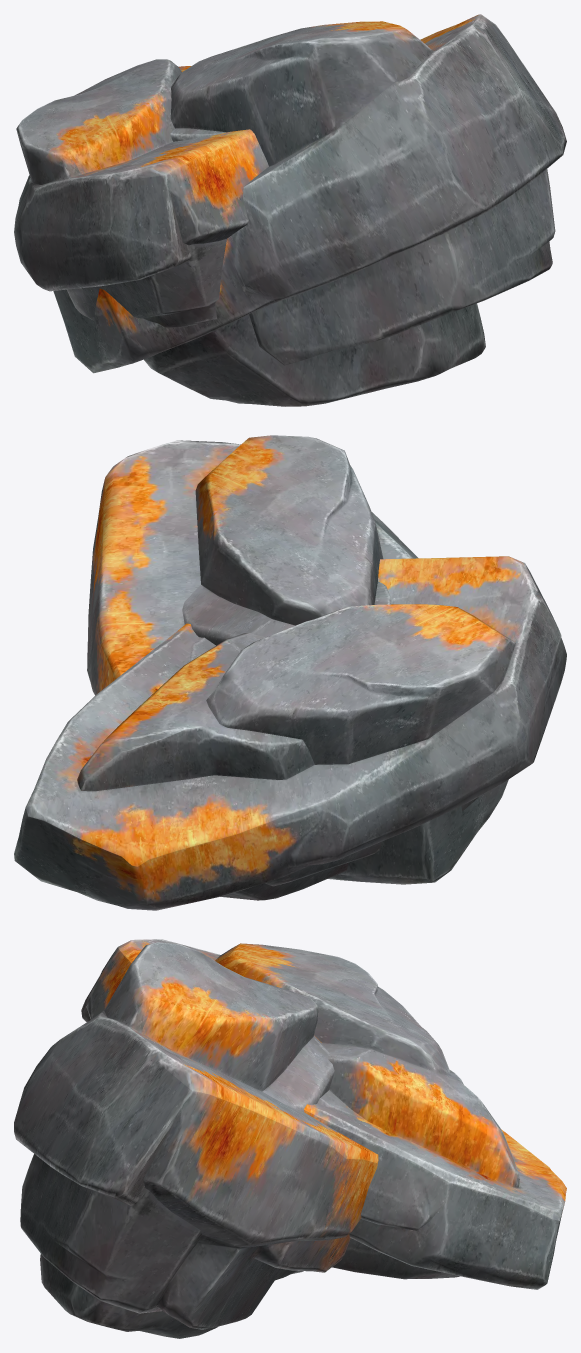
3 renders of one model, top to bottom at view 1: azimuth 30°, elevation 25°; view 2: azimuth 150°, elevation 25°; view 3: azimuth 270°, elevation 25°, orthographic. The views are drawn at different scales.
Visible parts, largest first — view 1: SM_Mining_Node_Medium_C_LOD0; view 2: SM_Mining_Node_Medium_C_LOD0; view 3: SM_Mining_Node_Medium_C_LOD0.
Part boxes in pixels (left/top/right/bottom): SM_Mining_Node_Medium_C_LOD0: left=14, top=14, right=566, bottom=406; SM_Mining_Node_Medium_C_LOD0: left=14, top=435, right=566, bottom=910; SM_Mining_Node_Medium_C_LOD0: left=14, top=939, right=566, bottom=1338.
Size of the model in its own units: 3.78 by 2.85 by 3.89.
Materials: 1 (1 with a texture image).
